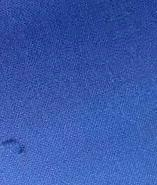knot: (1, 138, 27, 156)
